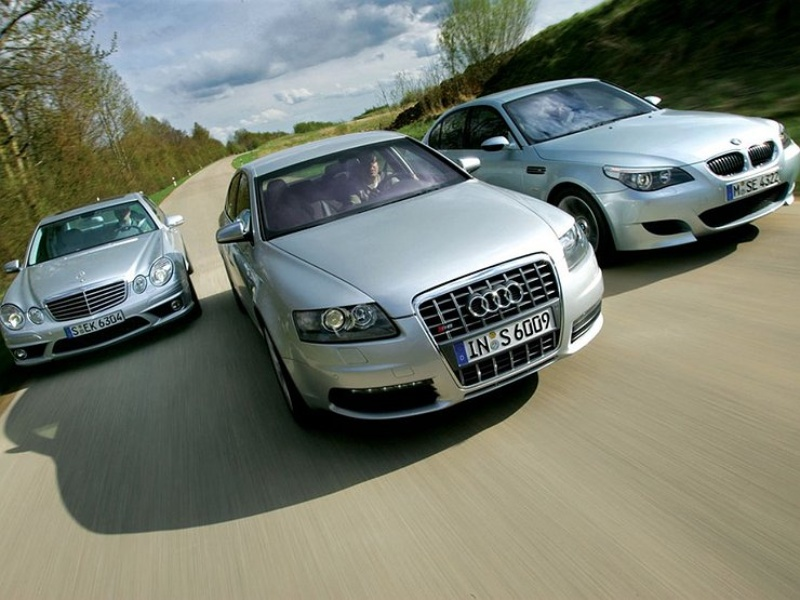car: (216, 131, 606, 430), (420, 77, 800, 260), (1, 192, 202, 370)
person: (346, 153, 398, 204), (112, 204, 147, 235)
plate: (454, 307, 555, 366), (65, 310, 124, 342), (727, 169, 781, 203)
